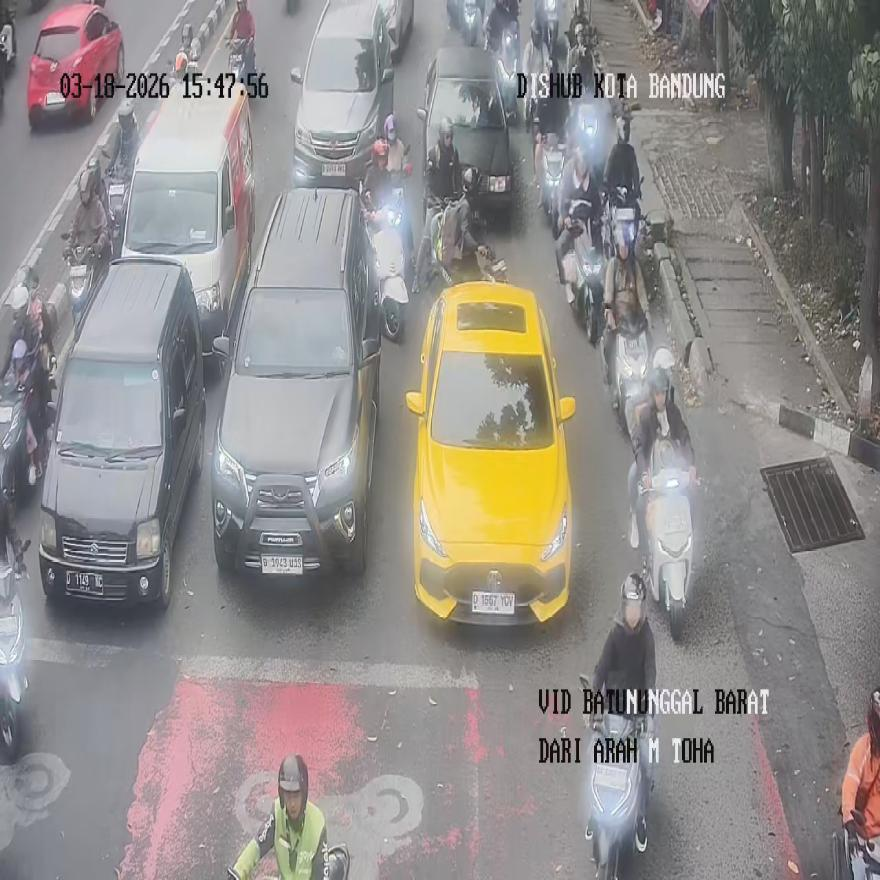Mobil: (210, 188, 381, 578), (37, 256, 206, 608), (405, 280, 575, 623), (118, 77, 256, 362), (289, 0, 393, 189), (418, 46, 514, 225), (27, 1, 124, 127)
Motor: (634, 440, 695, 640), (585, 711, 655, 880), (0, 361, 55, 512), (366, 191, 412, 341), (0, 539, 30, 764), (560, 200, 604, 344), (605, 312, 649, 435), (102, 100, 140, 237), (61, 229, 107, 336), (830, 808, 880, 880), (602, 184, 641, 262), (537, 131, 564, 231), (105, 176, 127, 260), (534, 0, 560, 66), (228, 36, 256, 96), (446, 0, 480, 46), (0, 3, 16, 74)
